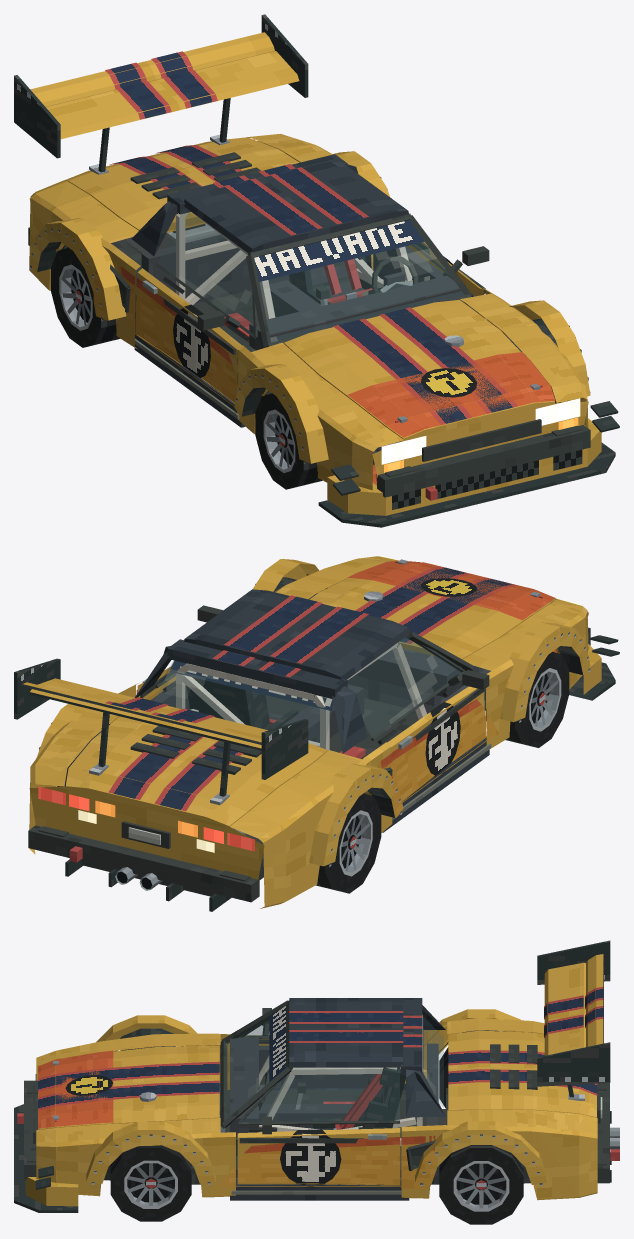
The model's file is torrel-1988-rs.glb.
3 views of the same model, one above another, from view 1: azimuth 30°, elevation 25°; view 2: azimuth 150°, elevation 25°; view 3: azimuth 270°, elevation 25° (orthographic). The views are drawn at different scales.
Parts seen in each view (by area): view 1: body, rs_wing, rs_front, Lift-off bonnet, livery_b_Lift-off bonnet, door_r, Removable targa shell, livery_a_Lift-off bonnet, Mid-engine deck lid, rs_cabin, rs_arch_fr, livery_a_Removable targa shell (+14 smaller); view 2: body, Mid-engine deck lid, rs_wing, door_r, Removable targa shell, rs_cabin, Lift-off bonnet, livery_b_Lift-off bonnet, livery_a_Removable targa shell, rs_arch_fr, livery_a_Lift-off bonnet, rs_arch_rr (+13 smaller); view 3: body, door_l, rs_wing, Mid-engine deck lid, wheel_rl, Lift-off bonnet, wheel_fl, Removable targa shell, livery_b_door_l__01, rs_cabin, livery_a_Lift-off bonnet, livery_b_Lift-off bonnet (+16 smaller).
Part boxes in pixels (x1=…): body: x1=28, y1=133, x2=590, y2=497; rs_wing: x1=14, y1=14, x2=308, y2=174; rs_front: x1=318, y1=401, x2=619, y2=527; Lift-off bonnet: x1=284, y1=300, x2=554, y2=441; livery_b_Lift-off bonnet: x1=347, y1=352, x2=555, y2=437; door_r: x1=137, y1=209, x2=257, y2=397; Removable targa shell: x1=184, y1=161, x2=408, y2=253; livery_a_Lift-off bonnet: x1=333, y1=307, x2=517, y2=424; Mid-engine deck lid: x1=65, y1=137, x2=299, y2=232; rs_cabin: x1=176, y1=212, x2=412, y2=342; rs_arch_fr: x1=234, y1=364, x2=328, y2=464; livery_a_Removable targa shell: x1=224, y1=167, x2=368, y2=235; body: x1=28, y1=556, x2=590, y2=908; Mid-engine deck lid: x1=65, y1=716, x2=327, y2=828; rs_wing: x1=14, y1=658, x2=308, y2=805; door_r: x1=348, y1=637, x2=489, y2=771; Removable targa shell: x1=184, y1=589, x2=408, y2=679; rs_cabin: x1=176, y1=642, x2=426, y2=758; Lift-off bonnet: x1=309, y1=564, x2=554, y2=659; livery_b_Lift-off bonnet: x1=347, y1=561, x2=554, y2=620; livery_a_Removable targa shell: x1=224, y1=595, x2=368, y2=663; rs_arch_fr: x1=500, y1=622, x2=590, y2=722; livery_a_Lift-off bonnet: x1=355, y1=566, x2=516, y2=643; rs_arch_rr: x1=309, y1=763, x2=402, y2=866; body: x1=24, y1=998, x2=609, y2=1200; door_l: x1=237, y1=1068, x2=400, y2=1184; rs_wing: x1=537, y1=940, x2=610, y2=1100; Mid-engine deck lid: x1=448, y1=1030, x2=596, y2=1117; wheel_rl: x1=439, y1=1145, x2=523, y2=1224; Lift-off bonnet: x1=38, y1=1045, x2=219, y2=1129; wheel_fl: x1=110, y1=1145, x2=191, y2=1221; Removable targa shell: x1=289, y1=998, x2=403, y2=1067; livery_b_door_l__01: x1=237, y1=1137, x2=400, y2=1185; rs_cabin: x1=259, y1=1015, x2=422, y2=1145; livery_a_Lift-off bonnet: x1=38, y1=1061, x2=219, y2=1110; livery_b_Lift-off bonnet: x1=38, y1=1050, x2=113, y2=1128.
Size of the model in its own units: 2.08 by 1.38 by 4.33.
6 materials, 6 textured.
